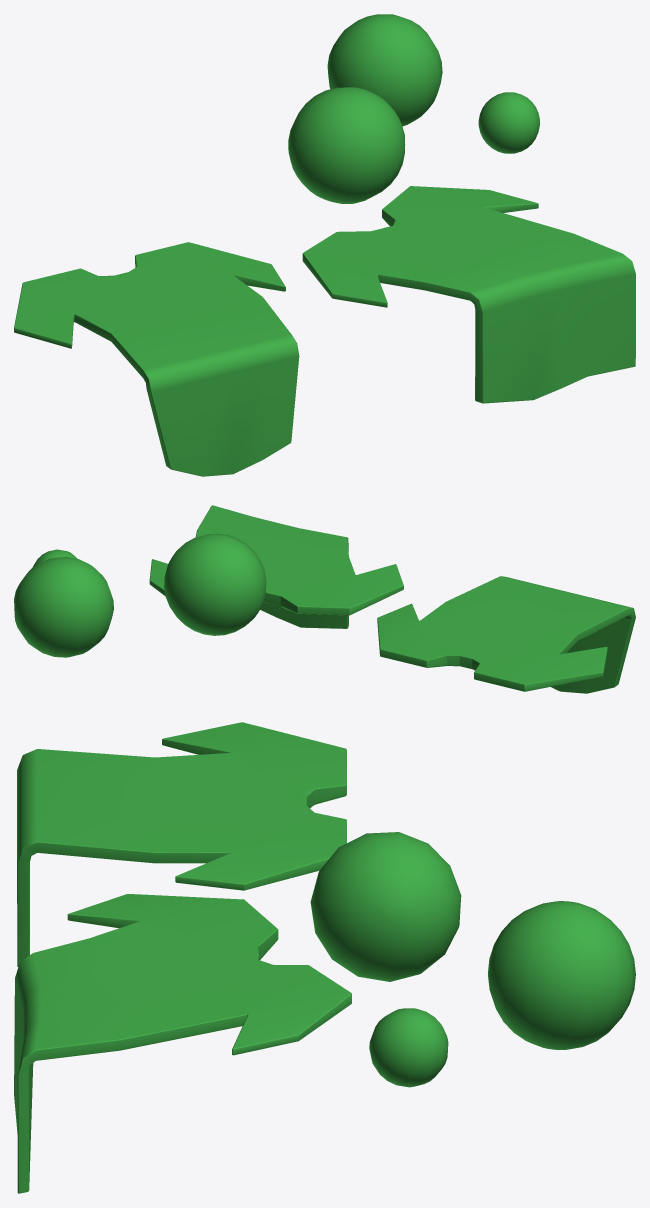
The model's file is SportsStallSpecific Not Exploded.fbx.
3 renders of one model, top to bottom at view 1: azimuth 30°, elevation 25°; view 2: azimuth 150°, elevation 25°; view 3: azimuth 270°, elevation 25°, orthographic. The views are drawn at different scales.
Parts seen in each view (by area): view 1: pCube16, pCube15, pSphere2, pSphere1, pSphere3; view 2: pCube15, pCube16, pSphere2, pSphere1, pSphere3; view 3: pCube15, pCube16, pSphere2, pSphere1, pSphere3.
Part boxes in pixels (bbox=[...]): pCube16: bbox=[302, 186, 635, 403]; pCube15: bbox=[14, 242, 299, 476]; pSphere2: bbox=[288, 87, 405, 203]; pSphere1: bbox=[327, 14, 442, 126]; pSphere3: bbox=[478, 92, 539, 153]; pCube15: bbox=[377, 576, 635, 693]; pCube16: bbox=[149, 505, 403, 628]; pSphere2: bbox=[164, 533, 266, 635]; pSphere1: bbox=[14, 557, 113, 657]; pSphere3: bbox=[33, 549, 77, 566]; pCube15: bbox=[17, 722, 346, 966]; pCube16: bbox=[14, 894, 351, 1193]; pSphere2: bbox=[310, 832, 461, 981]; pSphere1: bbox=[488, 901, 635, 1049]; pSphere3: bbox=[369, 1008, 448, 1087].
Bounding box in the file's own units: 125 × 43.53 × 89.07.
